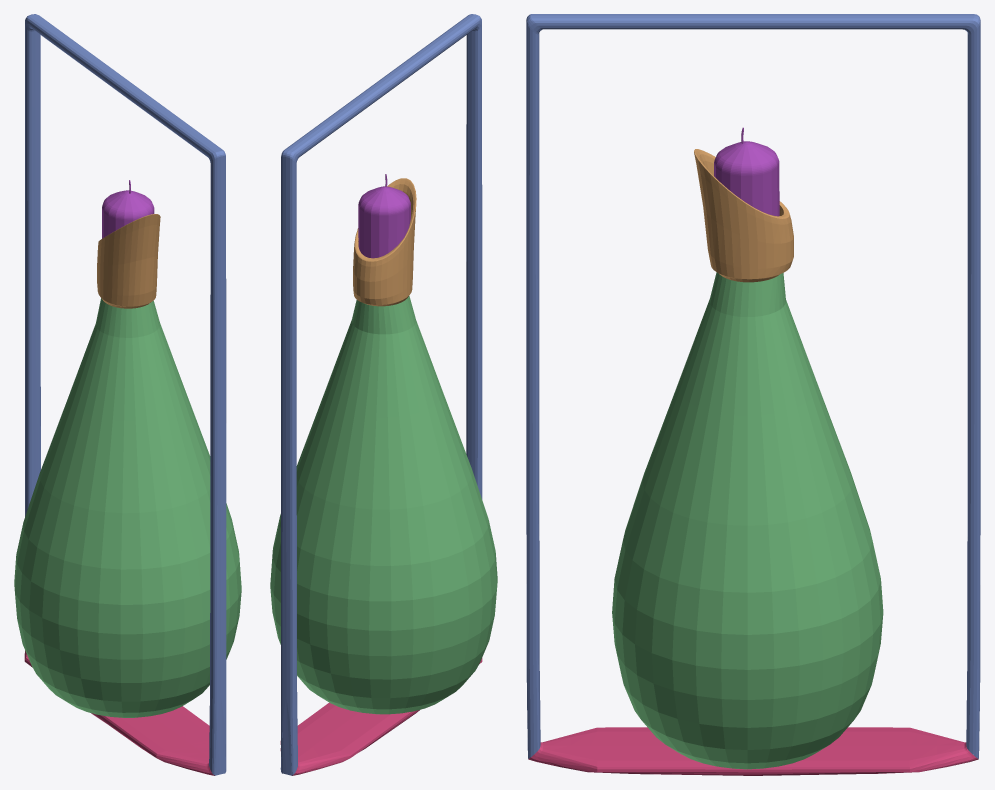
The picture shows the model from 3 angles, left to right: view 1: azimuth 30°, elevation 25°; view 2: azimuth 150°, elevation 25°; view 3: azimuth 270°, elevation 25°; orthographic projection. The views are drawn at different scales.
Visible parts, largest first — view 1: pred_mesh_gc.ply; view 2: pred_mesh_gc.ply; view 3: pred_mesh_gc.ply.
Boxes of the visible parts, box(x1,y1,x2,y2) form: pred_mesh_gc.ply: box(14, 14, 241, 775); pred_mesh_gc.ply: box(270, 14, 497, 775); pred_mesh_gc.ply: box(526, 14, 980, 775).
Bounding box in the file's own units: 0.2784 × 0.8397 × 0.4663.
